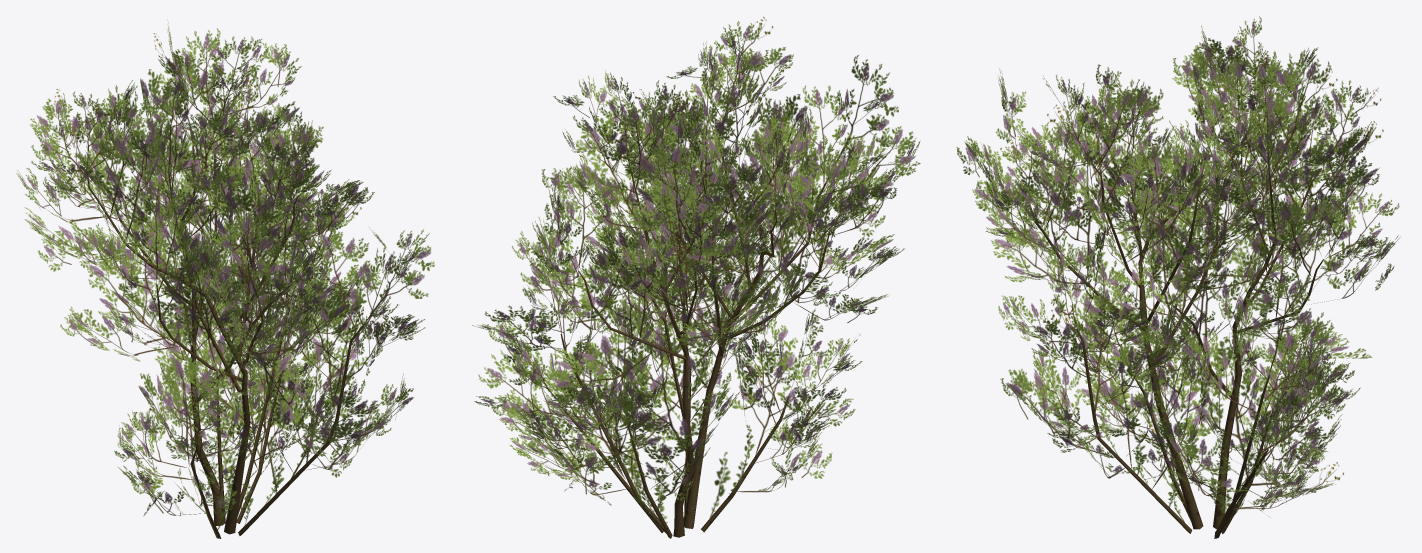
Rendered from tbush2.glb.
3 views of the same model, side by side, from view 1: azimuth 30°, elevation 25°; view 2: azimuth 150°, elevation 25°; view 3: azimuth 270°, elevation 25° (orthographic).
Visible parts, largest first — view 1: prefab; view 2: prefab; view 3: prefab.
Part boxes in pixels (x1,y1,x2,y2): prefab: (16,22,434,538); prefab: (472,17,920,538); prefab: (956,16,1400,538).
Size of the model in its own units: 1.91 by 2.35 by 2.02.
Materials: 2 (2 with a texture image).
